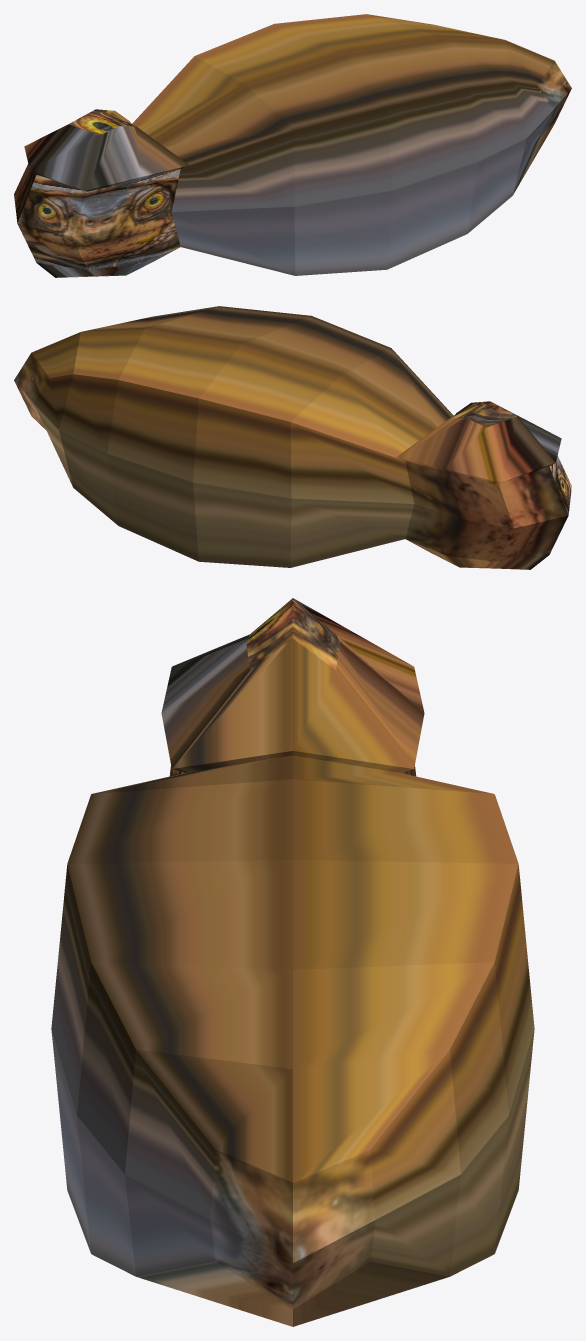
Rendered from turtlefinal.fbx.
The picture shows the model from 3 angles, top to bottom: view 1: azimuth 30°, elevation 25°; view 2: azimuth 150°, elevation 25°; view 3: azimuth 270°, elevation 25°; orthographic projection. The views are drawn at different scales.
Parts seen in each view (by area): view 1: Cube, Cube.002; view 2: Cube, Cube.002; view 3: Cube.
Part boxes in pixels (<box>): Cube: <box>14,14,571,277</box>; Cube.002: <box>17,169,180,269</box>; Cube: <box>14,306,568,569</box>; Cube.002: <box>549,456,571,514</box>; Cube: <box>51,598,534,1326</box>.
Bounding box in the file's own units: 1057 × 341 × 399.
